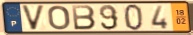0: (123, 3, 144, 32)
4: (150, 4, 170, 30)
9: (98, 4, 120, 31)
B: (70, 4, 97, 31)
O: (47, 4, 71, 31)
V: (20, 4, 46, 32)
